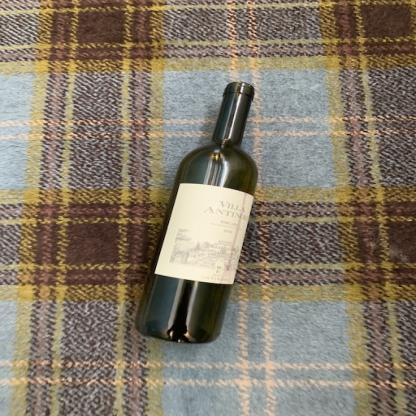trash: (134, 80, 269, 348)
